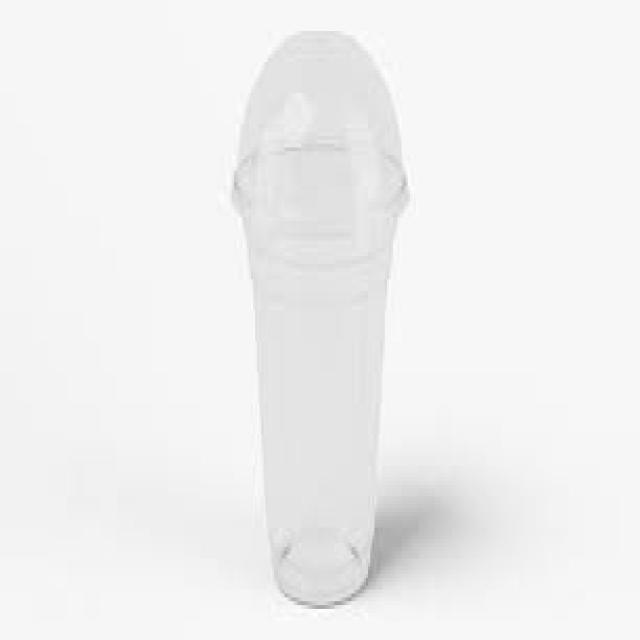cup: (220, 100, 413, 630)
